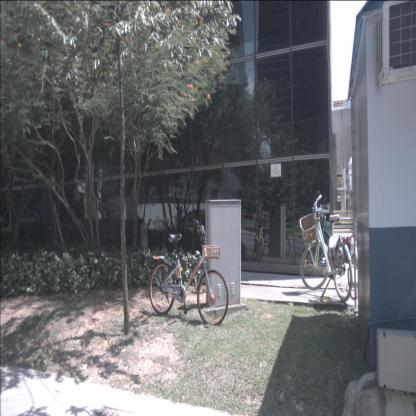vehicle-bicycle: (149, 218, 229, 327), (300, 194, 352, 302), (255, 214, 290, 257), (253, 219, 268, 260)
